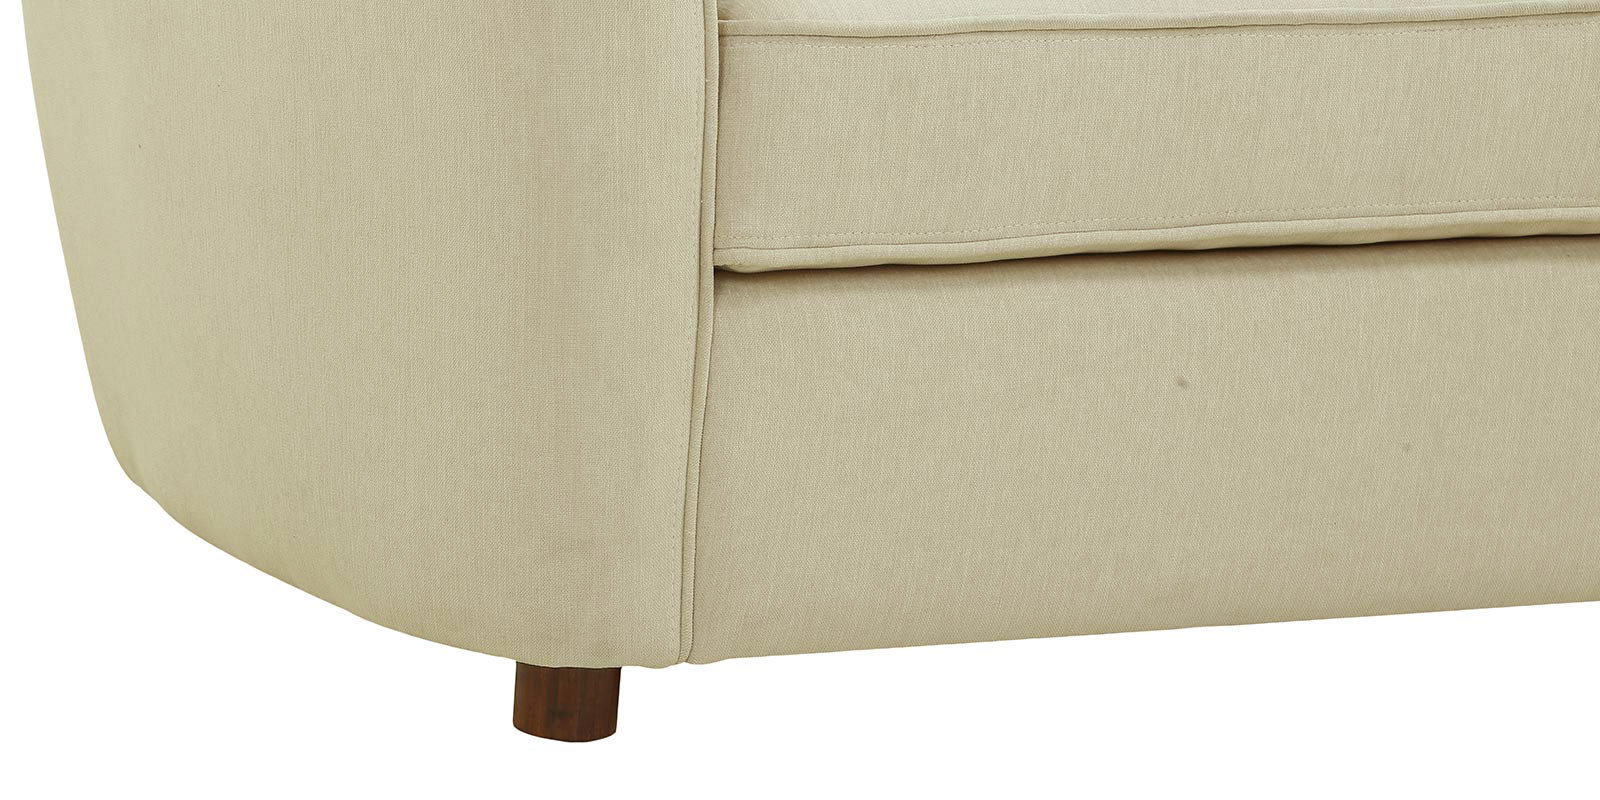Mamore Three Seater Sofa in Beige Color by CasaCraft: (23, 1, 1600, 741)
